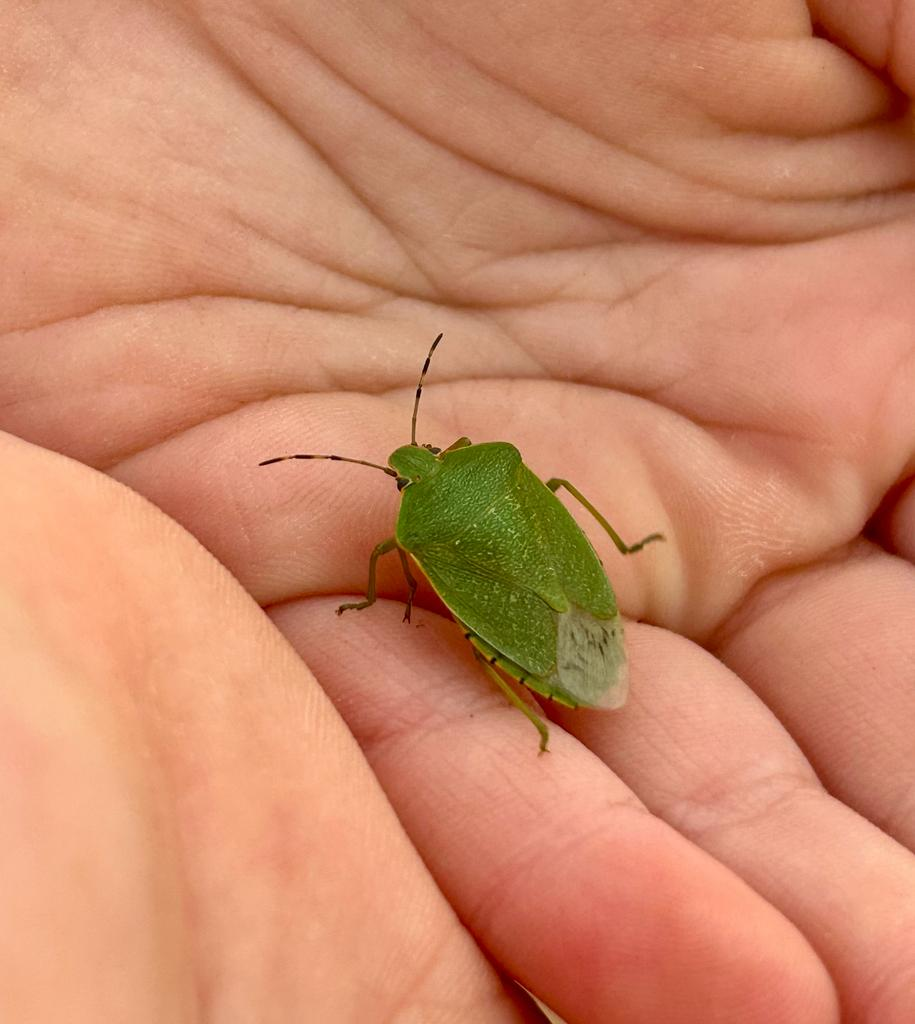stink_bugs: (220, 278, 788, 809)
